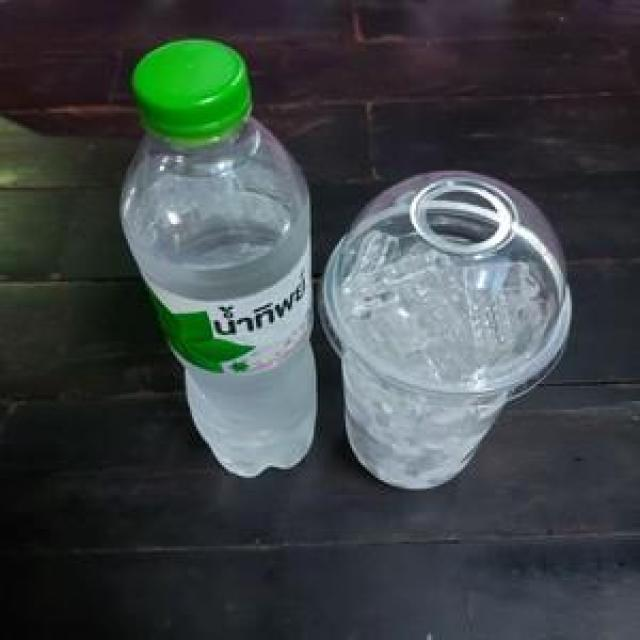bottle: (112, 28, 323, 490)
